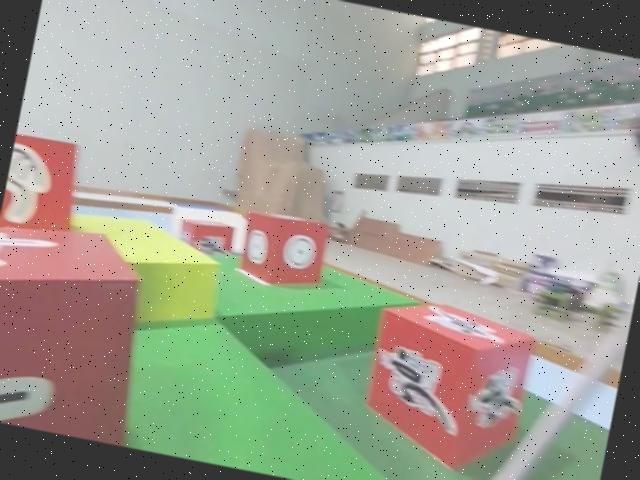R1: (352, 291, 540, 480), (173, 213, 234, 265)
R2 Fake: (0, 131, 85, 245)
R2 Real: (235, 205, 330, 298)
